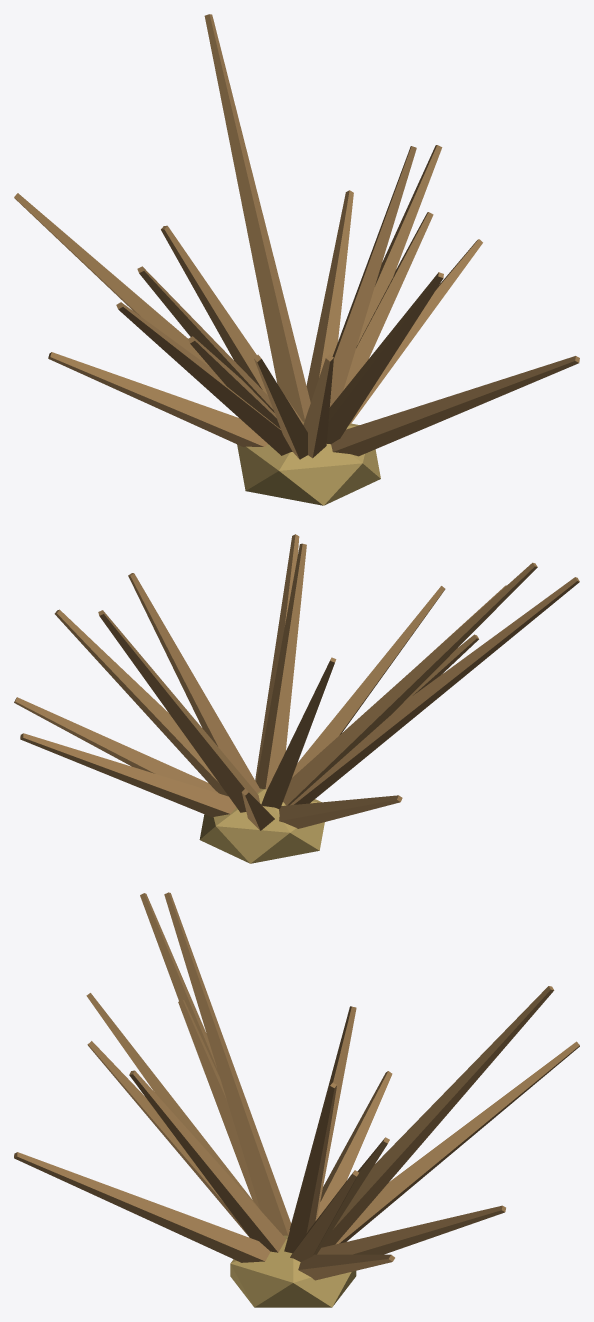
The model's file is map3_dry_bush_v01.glb.
3 views of the same model, one above another, from view 1: azimuth 30°, elevation 25°; view 2: azimuth 150°, elevation 25°; view 3: azimuth 270°, elevation 25° (orthographic). The views are drawn at different scales.
Parts seen in each view (by area): view 1: dry_bush; view 2: dry_bush; view 3: dry_bush.
Part boxes in pixels (x1=…): dry_bush: x1=14, y1=14, x2=579, y2=505; dry_bush: x1=14, y1=534, x2=579, y2=863; dry_bush: x1=14, y1=892, x2=579, y2=1307.
Size of the model in its own units: 0.8522 by 0.6006 by 0.9169.
